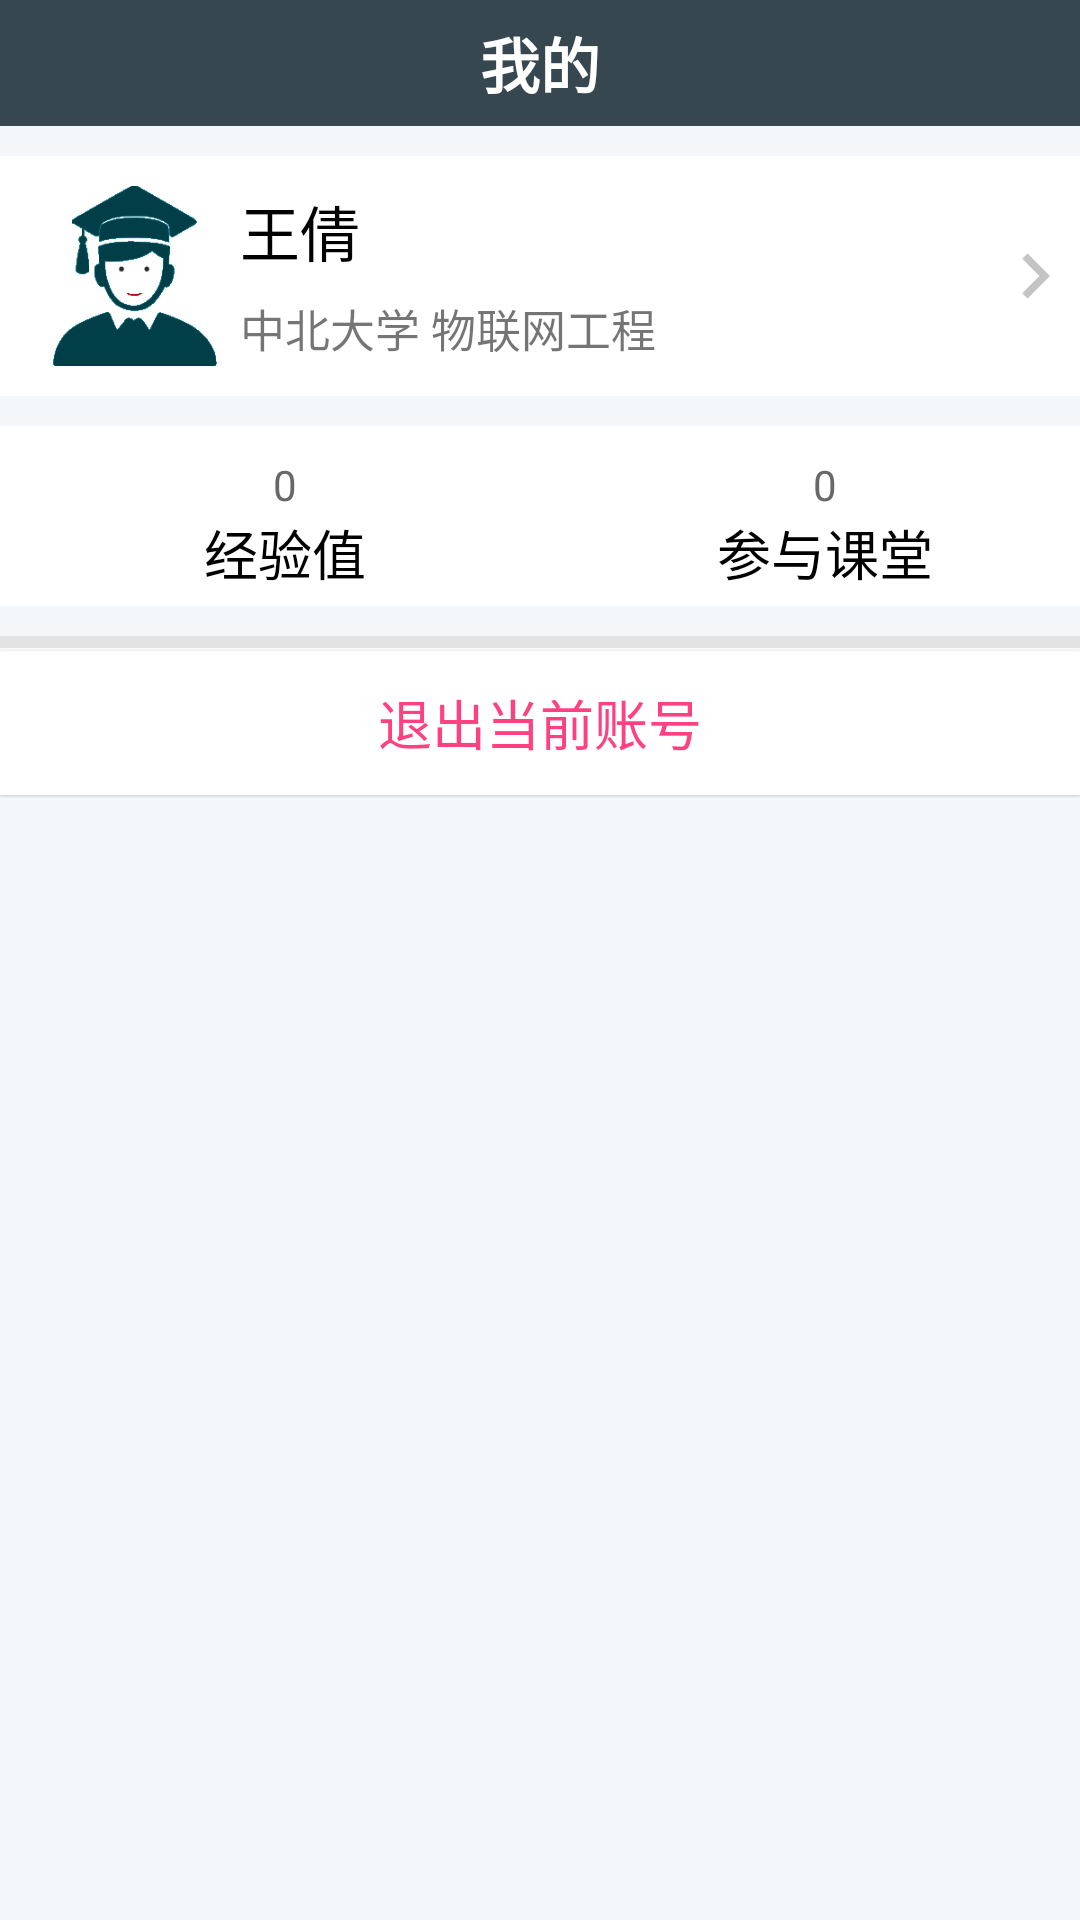

Icons on this 1080w x 1920h Android screen, each with the point to tap as [x,y]:
ava base: [135,276]
me right: [1036,276]
